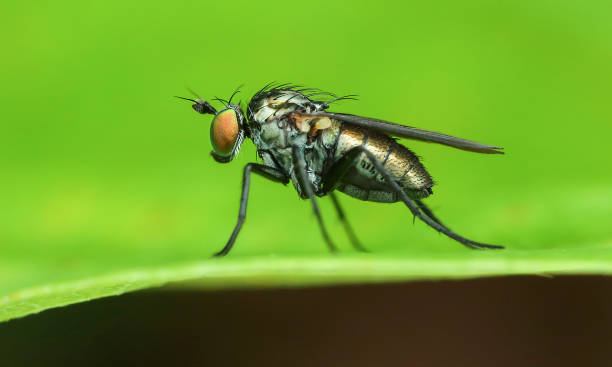Fruit fly: (171, 62, 508, 256)
